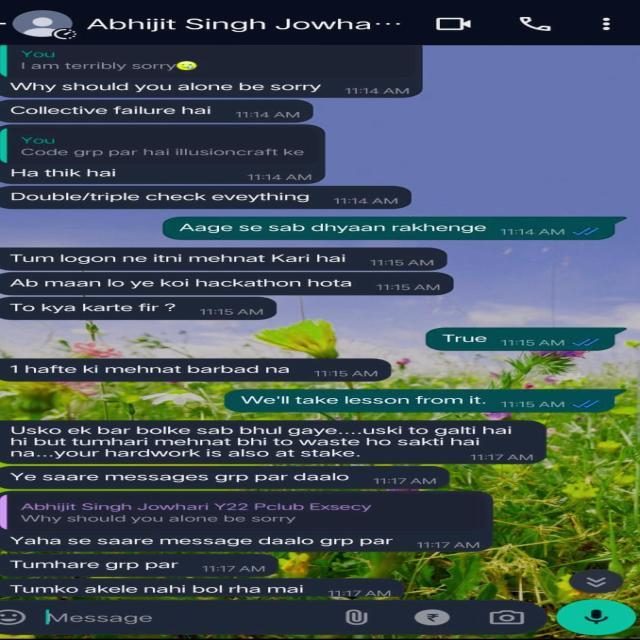scam: (0, 419, 550, 465), (0, 42, 425, 97), (0, 123, 330, 185), (0, 463, 454, 488), (0, 272, 458, 296), (0, 354, 392, 382), (0, 184, 413, 210), (0, 533, 497, 553), (0, 248, 446, 270), (0, 579, 406, 599), (0, 98, 318, 122), (0, 296, 280, 321), (0, 553, 280, 574)
